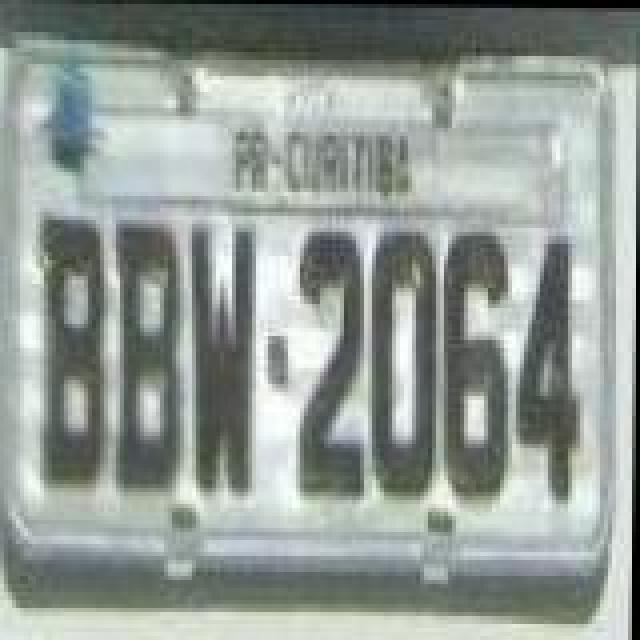2: (292, 226, 372, 502)
4: (512, 228, 584, 504)
6: (438, 228, 514, 504)
B: (108, 212, 188, 496), (34, 210, 110, 494)
O: (366, 222, 442, 498)
W: (186, 216, 262, 500)
